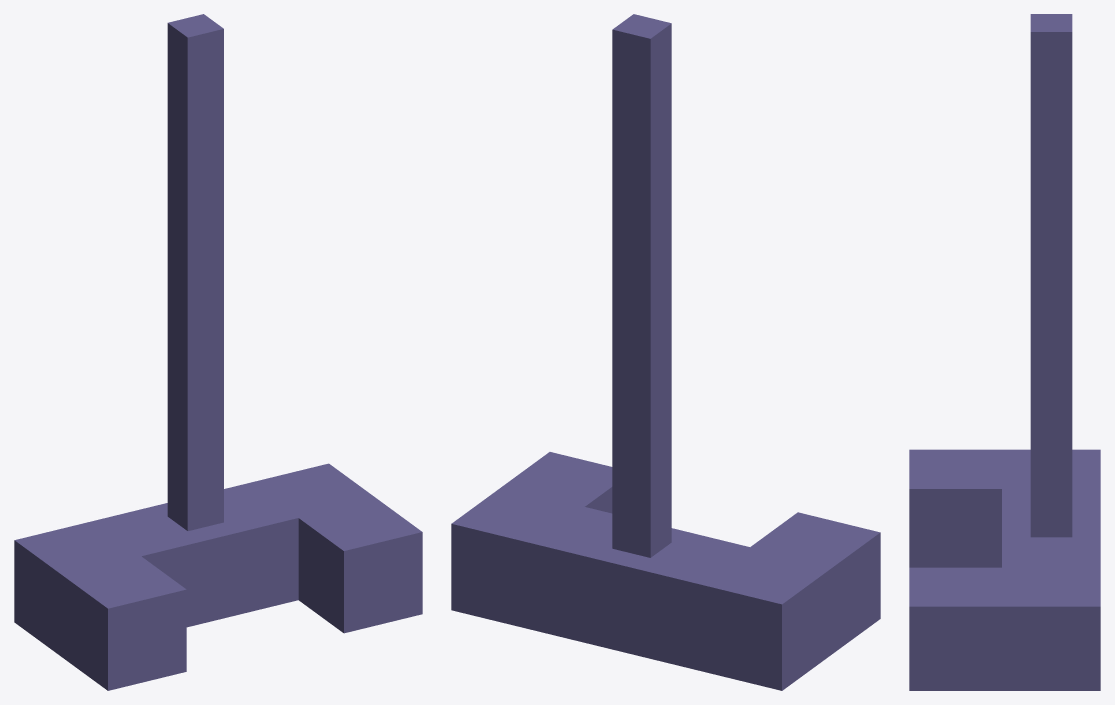
The model's file is _etpack.fbx.
The picture shows the model from 3 angles, left to right: view 1: azimuth 30°, elevation 25°; view 2: azimuth 150°, elevation 25°; view 3: azimuth 270°, elevation 25°; orthographic projection. The views are drawn at different scales.
Visible parts, largest first — view 1: Gun; view 2: Gun; view 3: Gun.
Boxes of the visible parts, x1=… form: Gun: x1=14, y1=14, x2=422, y2=690; Gun: x1=451, y1=14, x2=880, y2=690; Gun: x1=909, y1=14, x2=1100, y2=690.
Size of the model in its own units: 400 by 700 by 206.
